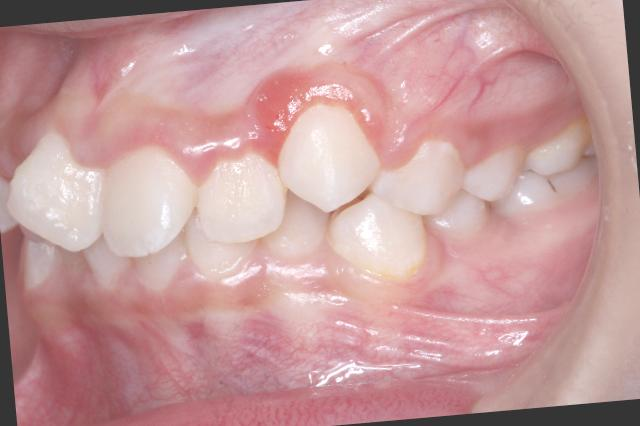canine class I: (258, 93, 441, 314)
molar class I: (487, 113, 609, 245)
